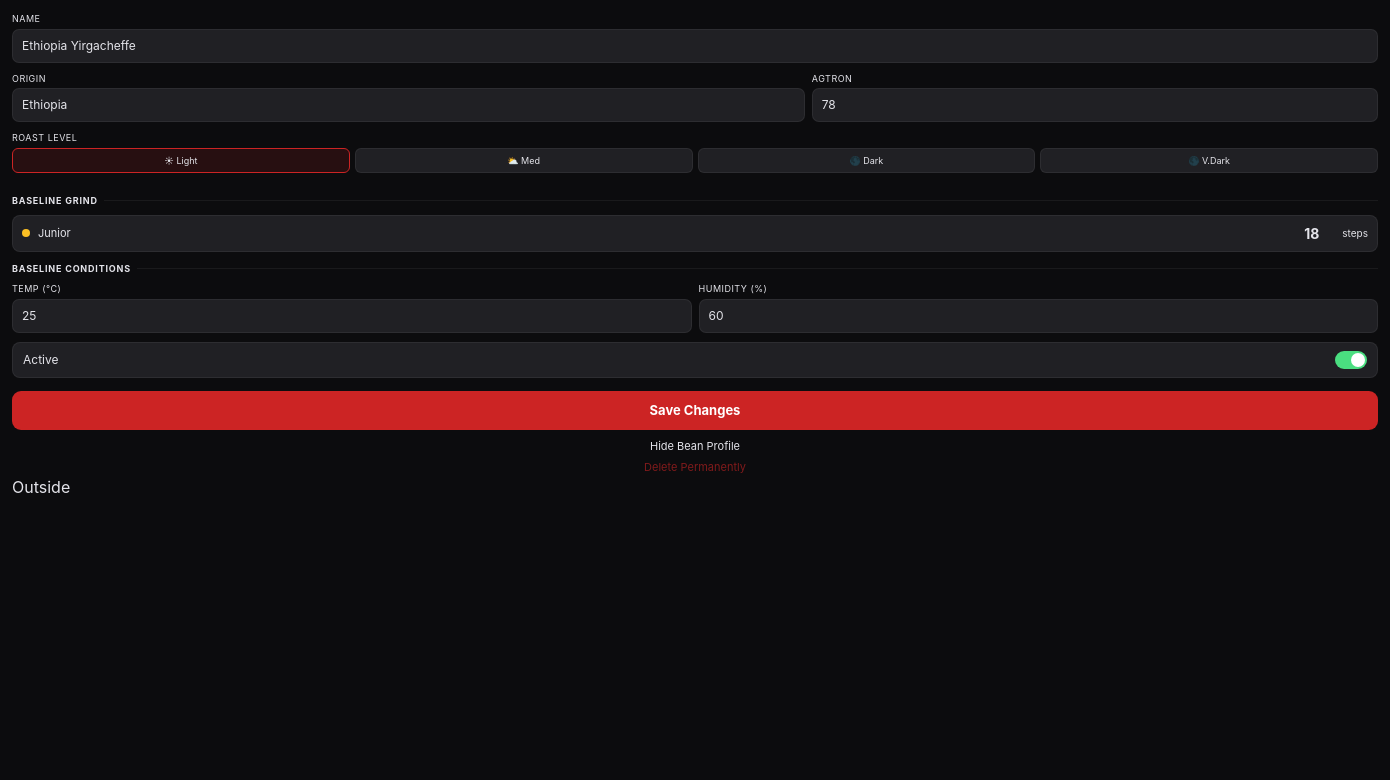
it: BeanForm — edit mode › cancels confirmation state when clicking outside the confirm row
The image size is (1390, 780).
Click the button "Delete Permanently" at point(695, 467), box [12, 458, 1378, 475]
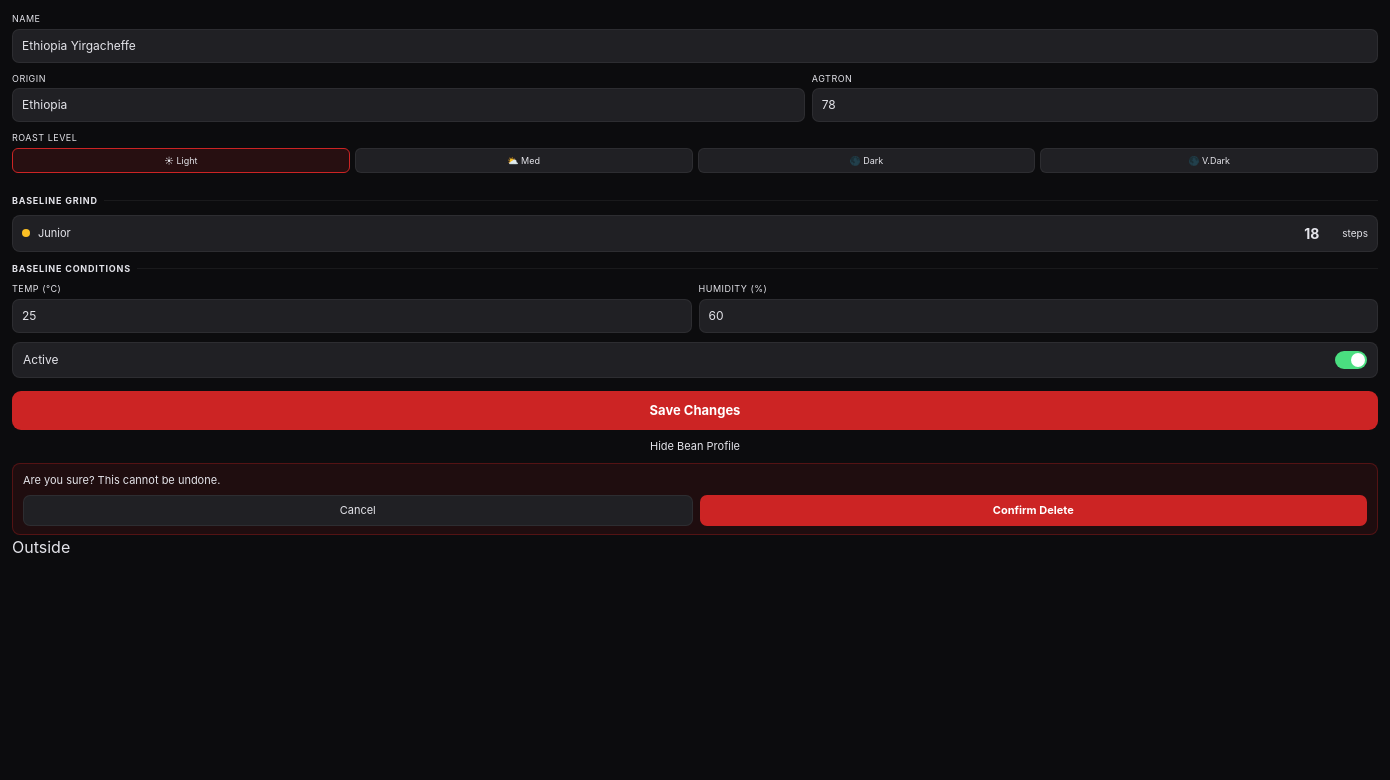
Check: the text "Are you sure? This cannot be undone." is shown, box [23, 472, 220, 486]
# Click the outside element — triggers the mousedown handler
Press the mouse on the text with test id "outside" at point(41, 546), box [12, 536, 70, 556]
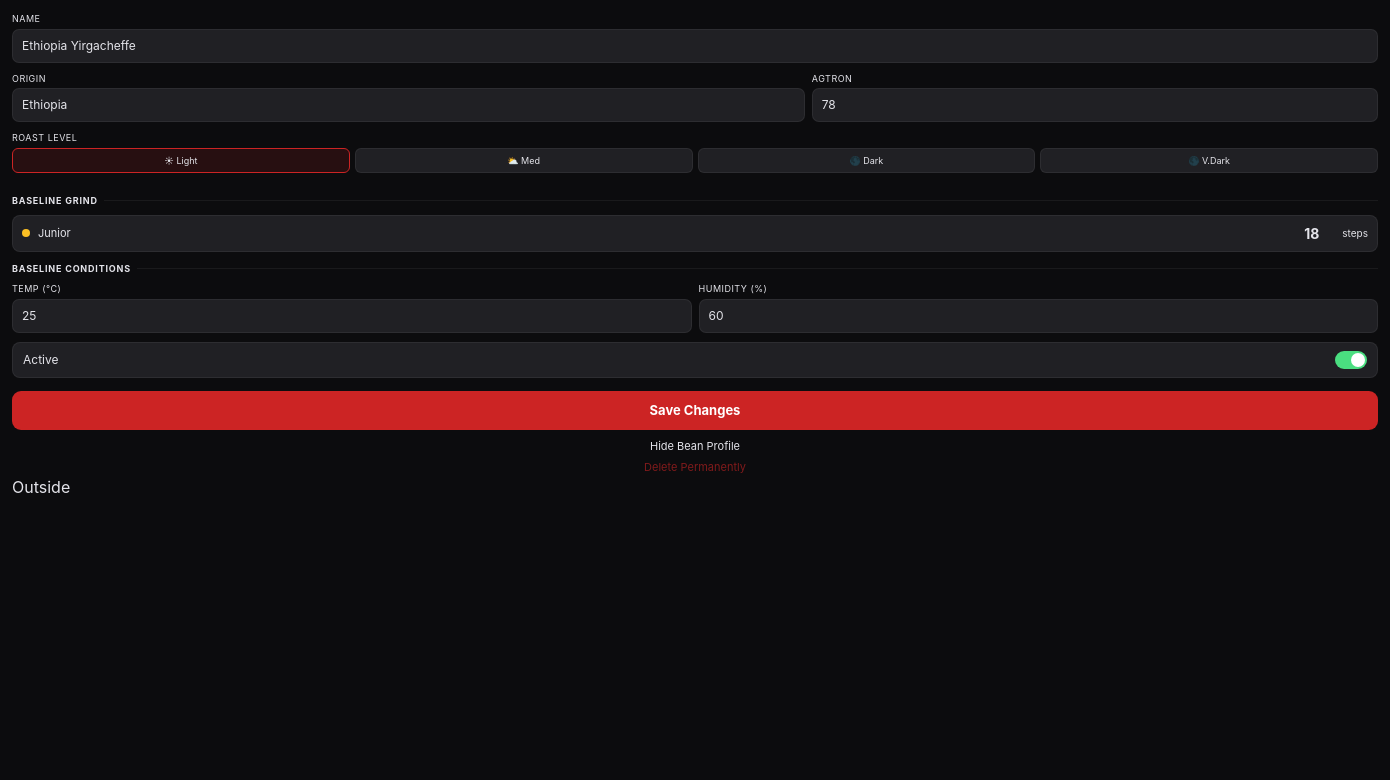
Check: the text "Are you sure" is gone
